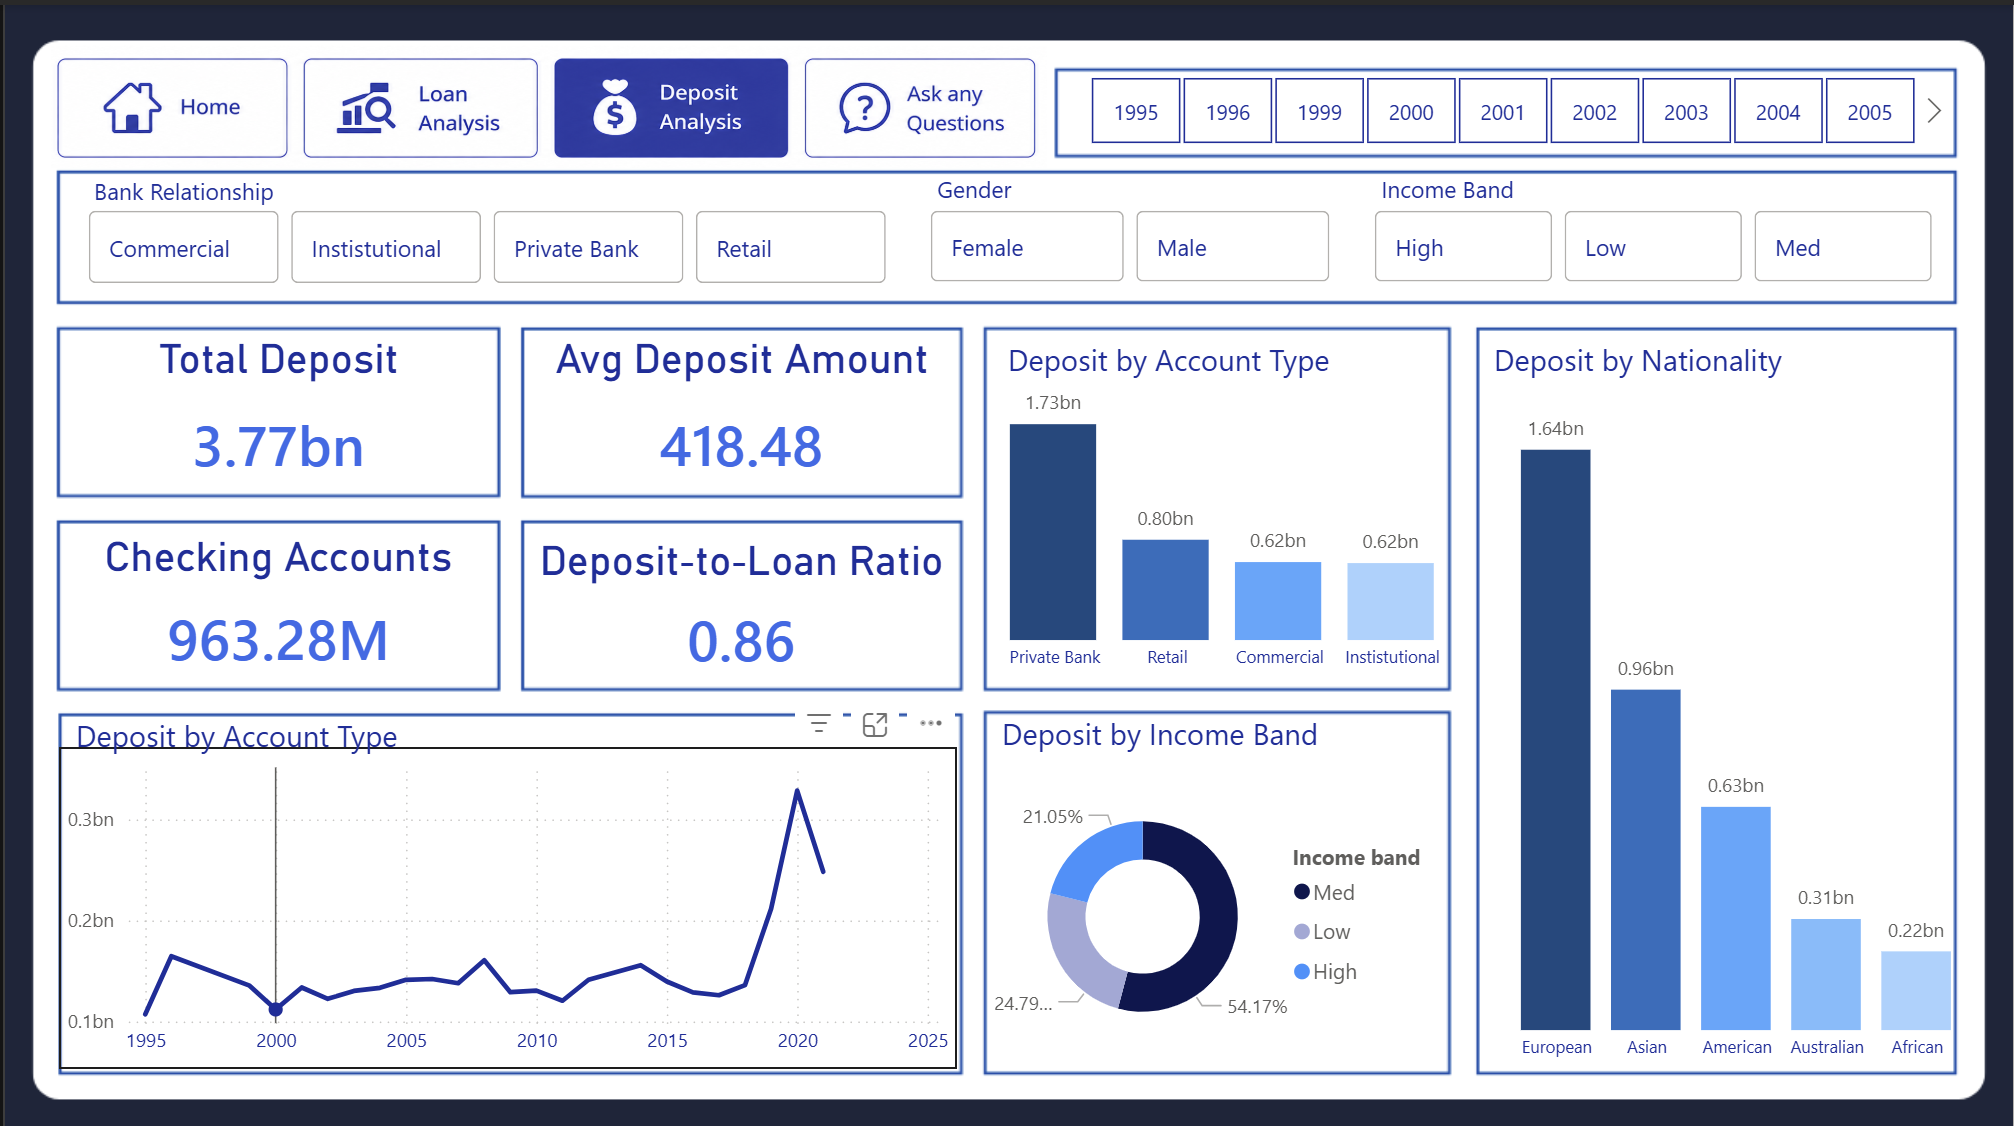

This screenshot's page, from the dashboard's own definition file:
{"tool":"powerbi","page":{"name":"Deposit Analysis","canvas":[1280,720],"ordinal":2},"visuals":[{"type":"cardVisual","title":"Total Deposit","fields":{"Data":["banking customer.Total Deposit Amount"]},"box":[35,210,280,105],"z":0},{"type":"cardVisual","title":"Avg Deposit Amount","fields":{"Data":["Avg(banking customer.Average Deposit per Customer)"]},"box":[328.3,210,281.7,105],"z":1000},{"type":"cardVisual","title":"Checking Accounts","fields":{"Data":["Sum(banking customer.Checking Accounts)"]},"box":[35,336.7,280,100],"z":2000},{"type":"cardVisual","title":"Deposit‑to‑Loan Ratio","fields":{"Data":["banking customer.Deposit‑to‑Loan Ratio"]},"box":[328.6,337.1,281.4,101.4],"z":3000},{"type":"clusteredColumnChart","fields":{"Y":["banking customer.Total Deposit Amount"],"Category":["banking customer.banking type"]},"box":[606.7,230,340,203.3],"z":4000},{"type":"textbox","box":[628.3,205,296.7,38.3],"z":5000},{"type":"lineChart","fields":{"Y":["banking customer.Total Deposit Amount"],"Category":["banking customer.year of joined"]},"box":[35,473.3,571.7,205],"z":6000},{"type":"textbox","box":[35,445,296.7,38.3],"z":7000},{"type":"textbox","box":[625,443.3,296.7,38.3],"z":8000},{"type":"donutChart","fields":{"Category":["banking customer.Income band"],"Y":["Sum(banking customer.Bank Deposits)"]},"box":[625,481.7,295,198.3],"z":9000},{"type":"clusteredColumnChart","fields":{"Category":["banking customer.Nationality"],"Y":["banking customer.Total Deposit Amount"]},"box":[938.3,245,331.7,436.7],"z":10000},{"type":"textbox","box":[938.3,205,296.7,38.3],"z":11000},{"type":"advancedSlicerVisual","fields":{"Values":["banking customer.banking type"]},"box":[48.3,126.7,520,56.7],"z":12000},{"type":"textbox","box":[35.7,102.9,308.6,52.9],"z":13000},{"type":"advancedSlicerVisual","fields":{"Values":["banking customer.Gender"]},"box":[585,126.7,265,55],"z":14000},{"type":"textbox","box":[585,101.7,116.7,51.7],"z":15000},{"type":"advancedSlicerVisual","fields":{"Values":["banking customer.Income band"]},"box":[868.3,126.7,366.7,55],"z":16000},{"type":"textbox","box":[868.3,101.7,116.7,51.7],"z":17000},{"type":"slicer","fields":{"Values":["banking customer.year of joined"]},"box":[667.1,40,574.3,55.7],"z":18000},{"type":"image","box":[29.3,0,634.9,130],"z":19000},{"type":"actionButton","box":[511.2,33.1,144.1,62.5],"z":20000},{"type":"actionButton","box":[192.5,34.4,144.1,62.5],"z":21000},{"type":"actionButton","box":[34.4,34.4,144.1,62.5],"z":22000}]}

Visuals, with their boxes in screenshot pixels (x1, y1, x2, y2), scaled from the page's 1280x720 canvas onto the 2014x1126 screenshot:
"Total Deposit" cardVisual: [55,328,496,493]
"Avg Deposit Amount" cardVisual: [517,328,960,493]
"Checking Accounts" cardVisual: [55,527,496,683]
"Deposit‑to‑Loan Ratio" cardVisual: [517,527,960,686]
clusteredColumnChart - banking customer.Total Deposit Amount x banking customer.banking type: [955,360,1490,678]
textbox: [989,321,1455,380]
lineChart - banking customer.Total Deposit Amount x banking customer.year of joined: [55,740,955,1061]
textbox: [55,696,522,756]
textbox: [983,693,1450,753]
donutChart - banking customer.Income band x Sum(banking customer.Bank Deposits): [983,753,1448,1063]
clusteredColumnChart - banking customer.Nationality x banking customer.Total Deposit Amount: [1476,383,1998,1066]
textbox: [1476,321,1943,380]
advancedSlicerVisual - banking customer.banking type: [76,198,894,287]
textbox: [56,161,542,244]
advancedSlicerVisual - banking customer.Gender: [920,198,1337,284]
textbox: [920,159,1104,240]
advancedSlicerVisual - banking customer.Income band: [1366,198,1943,284]
textbox: [1366,159,1550,240]
slicer - banking customer.year of joined: [1050,63,1953,150]
image: [46,0,1045,203]
actionButton: [804,52,1031,150]
actionButton: [303,54,530,152]
actionButton: [54,54,281,152]
